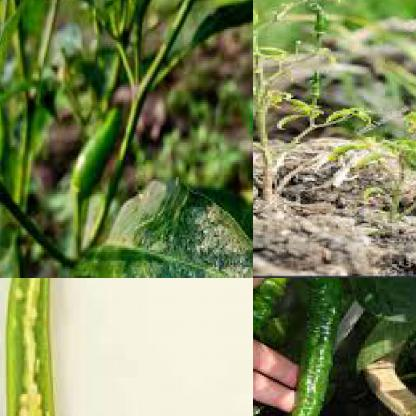Green Chilli: (264, 278, 348, 415), (4, 278, 58, 415), (65, 106, 128, 196), (126, 0, 167, 34), (312, 4, 331, 36), (312, 70, 322, 96)
